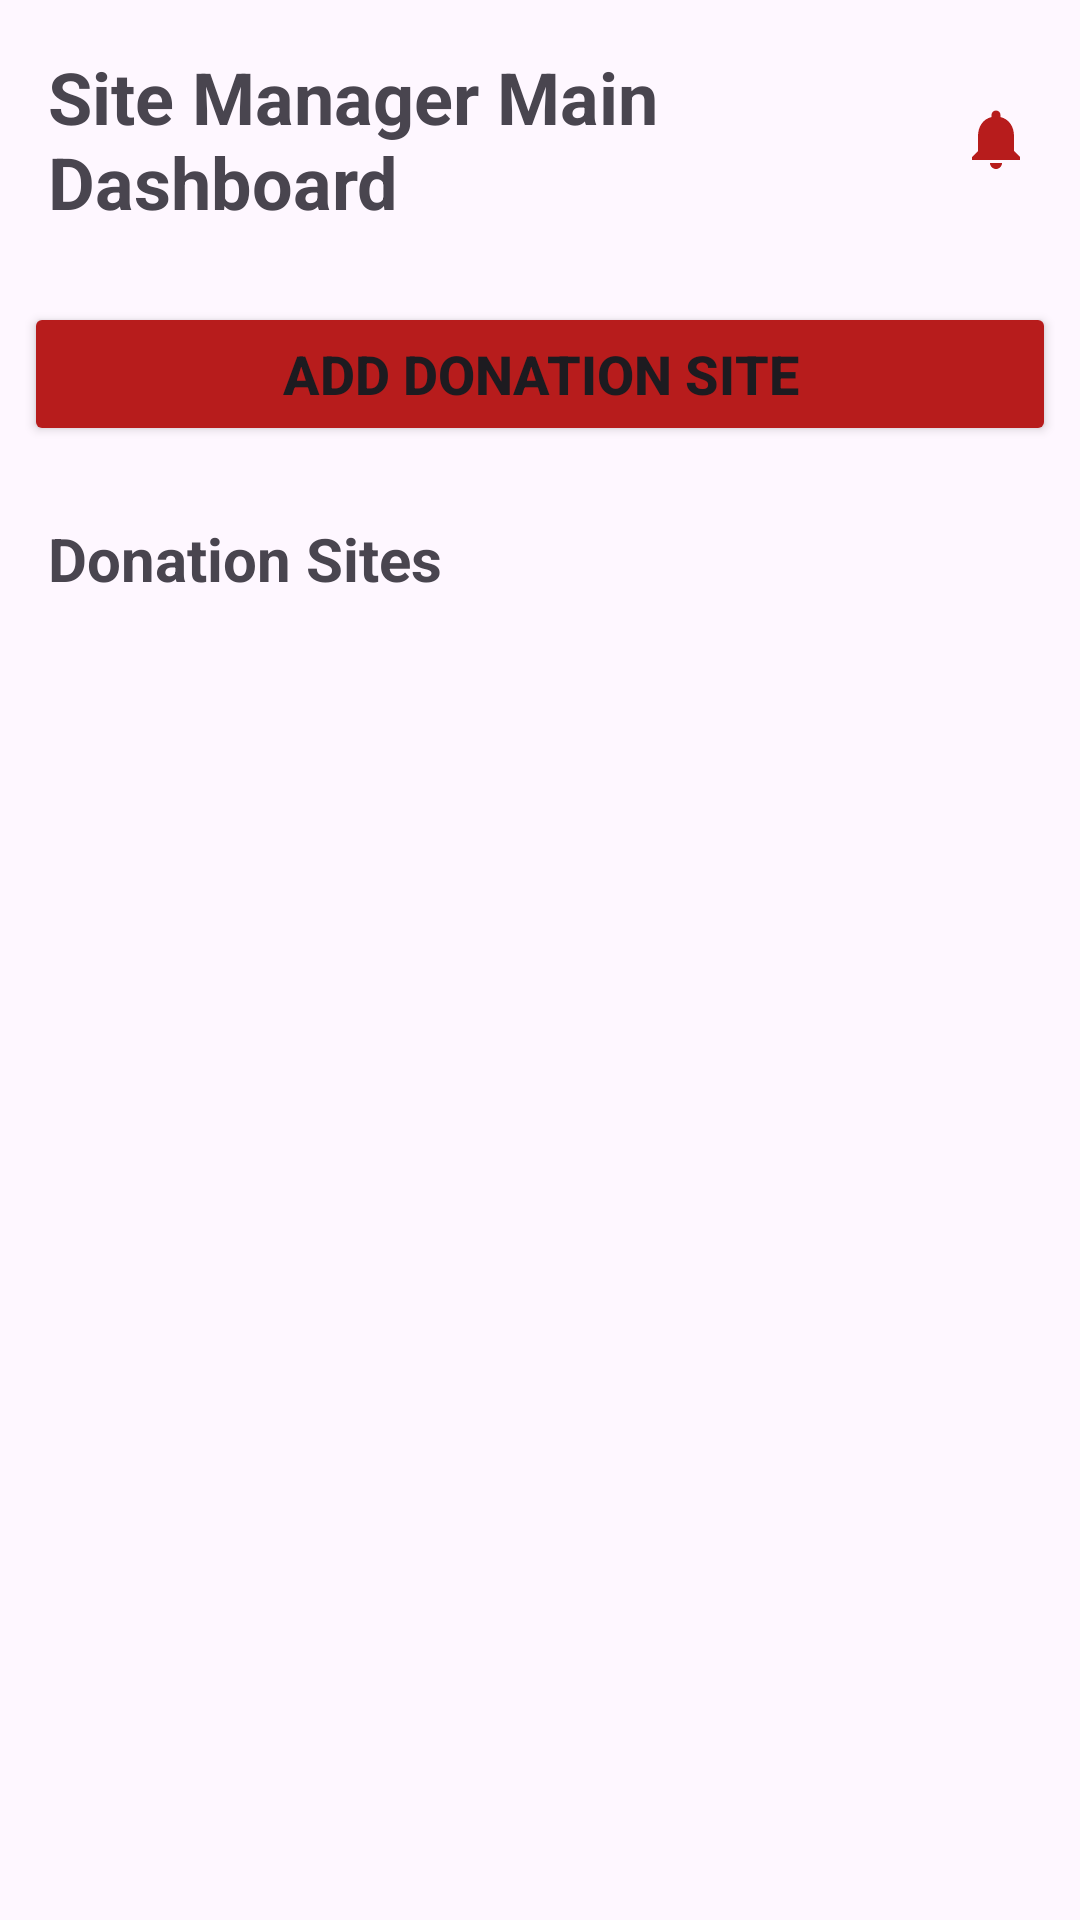

Icon bounding boxes for this 1080w x 1920h phone screenshot, format (x1, y1, x2, y2):
Updating notifications: (972, 110, 1020, 169)
